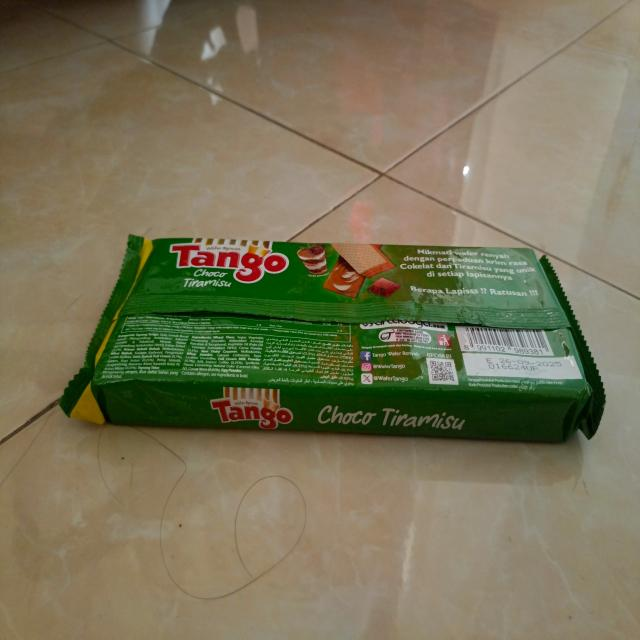tango-tiramisu: (56, 233, 608, 450)
